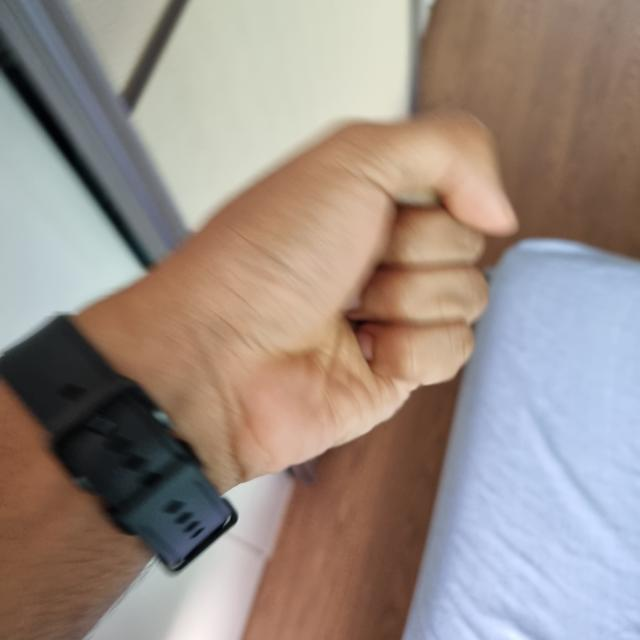Rock: (89, 111, 513, 477)
